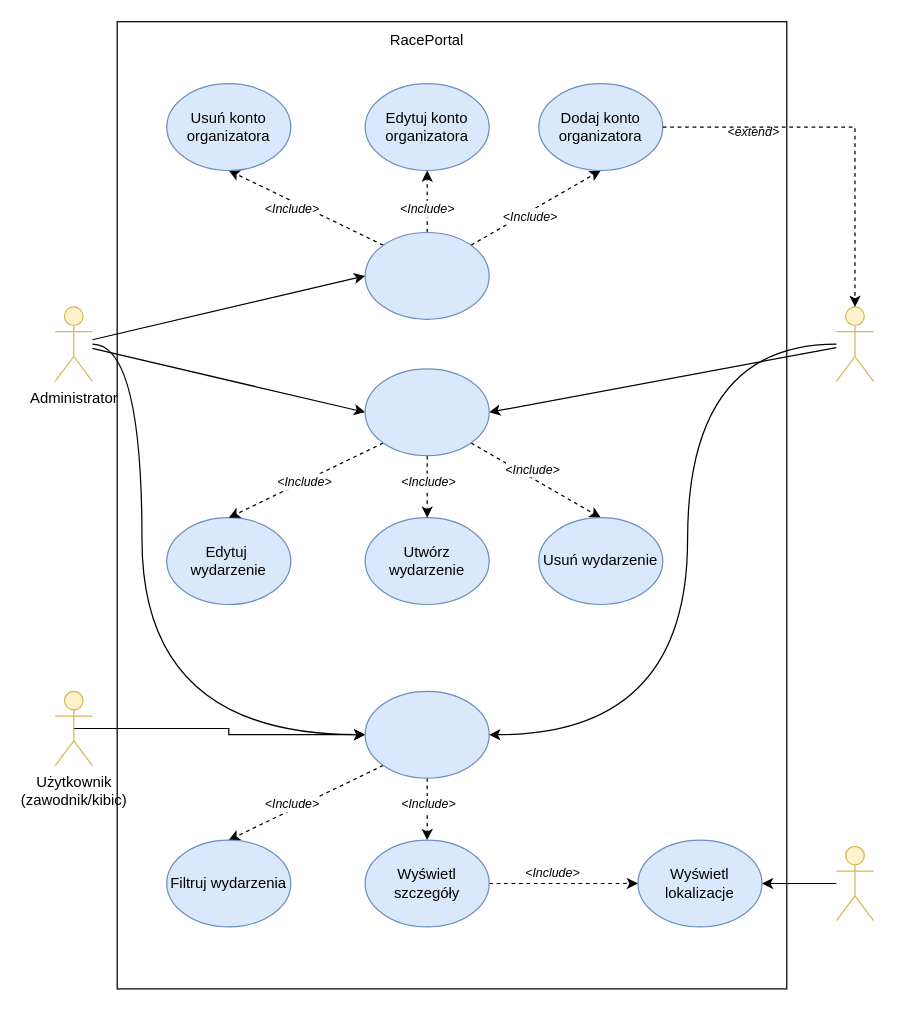
The diagram is 919 pixels wide and 1011 high, and some of its shapes have lost their labels. The centre of each missing label's shape, as x and y in pixels:
GoogleMaps: pixel 854 883
Organizator: pixel 854 343
Przeglądaj wydarzeń: pixel 426 734
Zarządzaj kontem organizatora: pixel 426 275
Zarządzaj wydarzeniem: pixel 426 412
